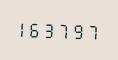nine: (70, 20, 82, 40)
one: (17, 18, 29, 38)
seven: (57, 19, 69, 40), (83, 20, 95, 41)
six: (30, 19, 42, 39)
three: (44, 19, 56, 39)
